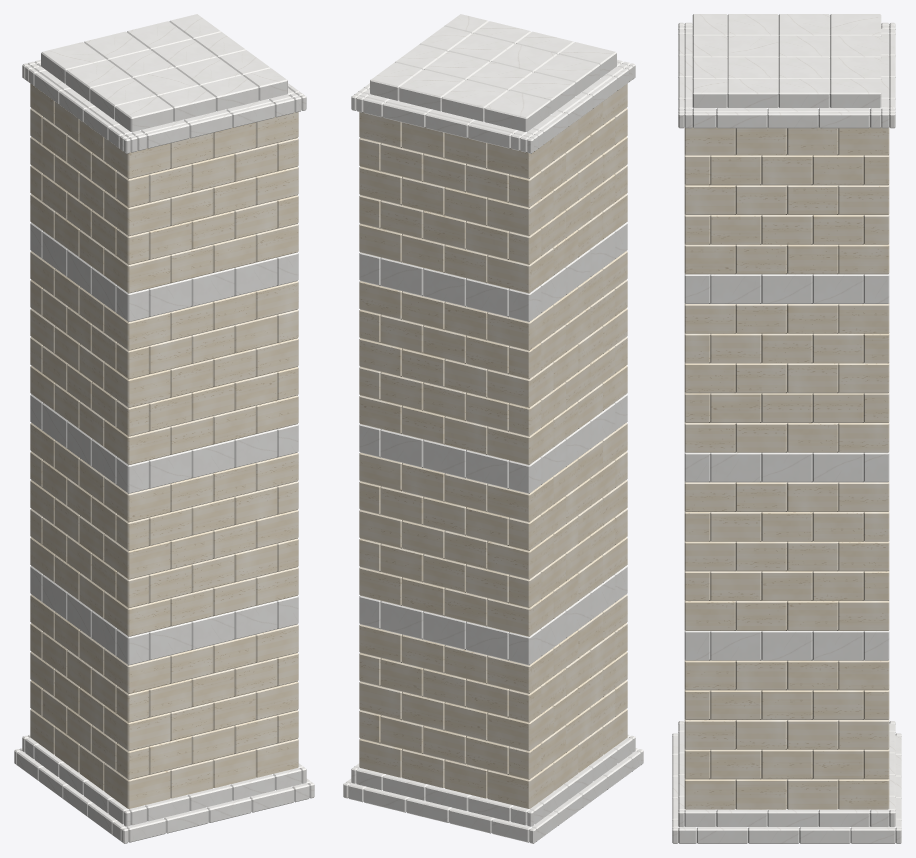
The picture shows the model from 3 angles, left to right: view 1: azimuth 30°, elevation 25°; view 2: azimuth 150°, elevation 25°; view 3: azimuth 270°, elevation 25°; orthographic projection. The views are drawn at different scales.
Parts seen in each view (by area): view 1: Mesh_monolith; view 2: Mesh_monolith; view 3: Mesh_monolith.
Part boxes in pixels (x1,y1,x2,y2): Mesh_monolith: (14,14,314,843); Mesh_monolith: (343,14,643,843); Mesh_monolith: (672,14,901,843).
Bounding box in the file's own units: 11.2 × 40 × 11.2.
1 material, 1 textured.
